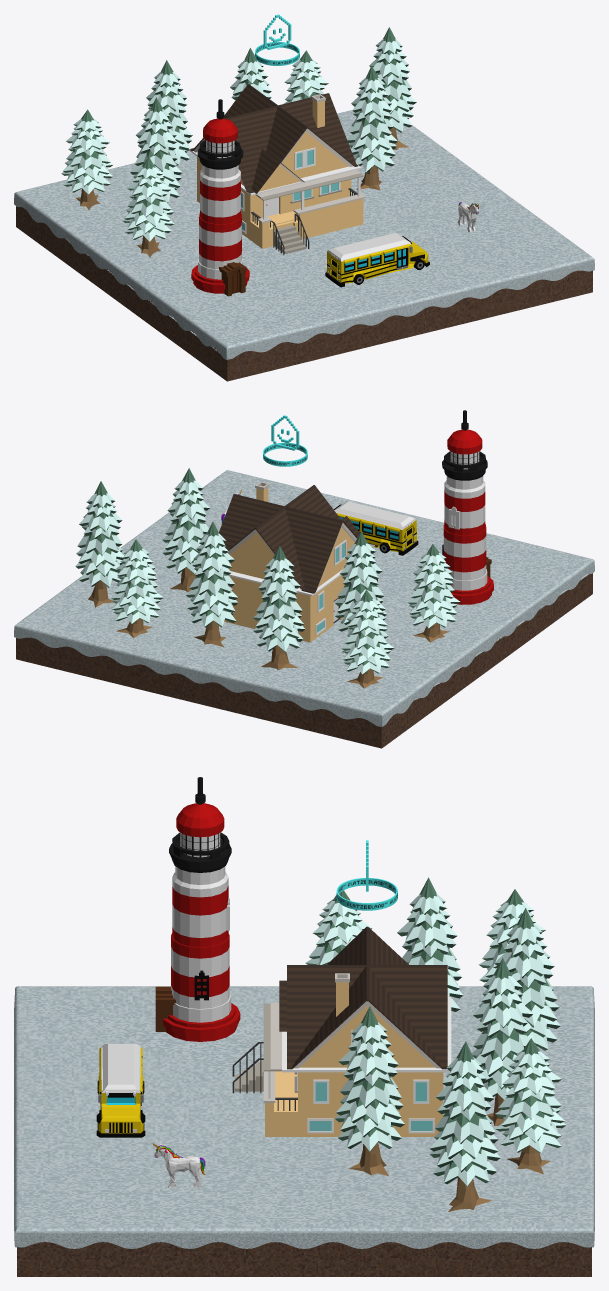
The picture shows the model from 3 angles, top to bottom: view 1: azimuth 30°, elevation 25°; view 2: azimuth 150°, elevation 25°; view 3: azimuth 270°, elevation 25°; orthographic projection. The views are drawn at different scales.
Visible parts, largest first — view 1: Cube.003, Cube.235, OBJRANDOM_LIGHTHOUSE, VEHICLES_SCHOOL_BUS, TYPE_PREMIUM; view 2: Cube.003, Cube.235, OBJRANDOM_LIGHTHOUSE, VEHICLES_SCHOOL_BUS, TYPE_PREMIUM; view 3: Cube.003, Cube.235, OBJRANDOM_LIGHTHOUSE, VEHICLES_SCHOOL_BUS, TYPE_PREMIUM, ANIMAL_UNICORNIO.
Part boxes in pixels (x1,y1,x2,y2): Cube.003: (14, 27, 594, 381); Cube.235: (189, 84, 365, 254); OBJRANDOM_LIGHTHOUSE: (191, 99, 249, 296); VEHICLES_SCHOOL_BUS: (325, 233, 429, 287); TYPE_PREMIUM: (255, 14, 299, 65); Cube.003: (14, 468, 594, 748); Cube.235: (219, 481, 377, 642); OBJRANDOM_LIGHTHOUSE: (442, 410, 493, 604); VEHICLES_SCHOOL_BUS: (333, 501, 418, 555); TYPE_PREMIUM: (263, 415, 307, 466); Cube.003: (14, 877, 594, 1276); Cube.235: (232, 926, 451, 1136); OBJRANDOM_LIGHTHOUSE: (155, 777, 240, 1041); VEHICLES_SCHOOL_BUS: (96, 1044, 145, 1137); TYPE_PREMIUM: (336, 840, 397, 910); ANIMAL_UNICORNIO: (153, 1143, 205, 1188).
Bounding box in the file's own units: 4040 × 2471 × 4040.
47 materials, 4 textured.
